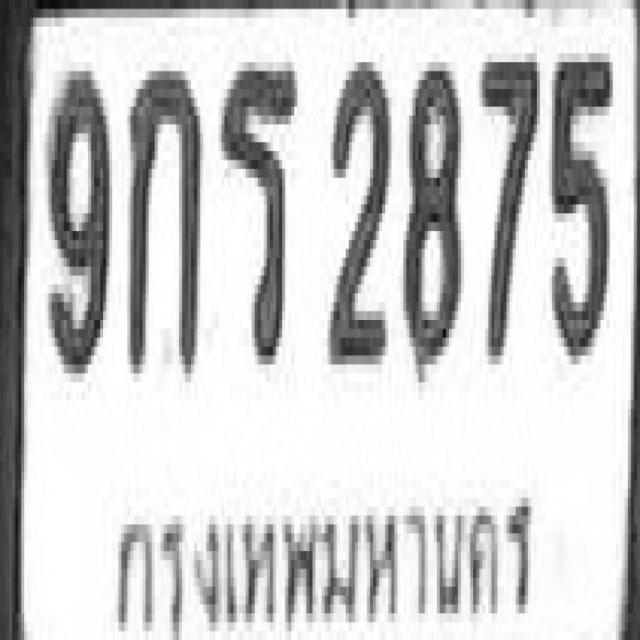2: (324, 54, 386, 355)
5: (548, 44, 610, 350)
7: (476, 48, 535, 356)
8: (401, 52, 458, 361)
9: (45, 62, 106, 366)
A01: (124, 60, 197, 368)
A35: (218, 51, 293, 360)
BKK: (101, 473, 544, 639)
